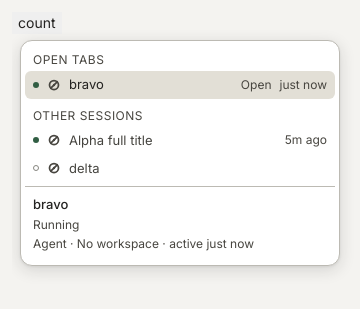
Test case: SessionOverviewMenu › previews what the roster already holds, and nothing it does not
Hover over the option "Alpha full title 5m ago" at (111, 140), box [33,132,327,148]
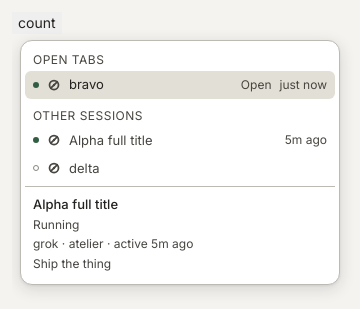
Expected: the element with class "workspace-overview-preview" shows "Alpha full title", [33,196,118,212]
Expected: the element with class "workspace-overview-preview" shows "grok", [33,236,193,251]
Expected: the element with class "workspace-overview-preview" shows "atelier", [33,236,193,251]
Hover over the option "delta" at (73, 168), box [47,160,100,176]
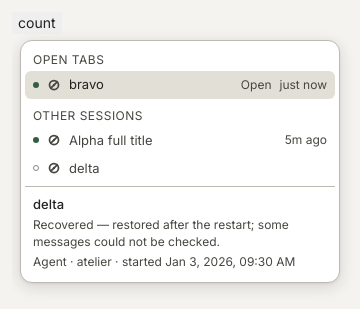
Expected: the element with class "workspace-overview-preview" shows "started", [33,254,295,269]
Expected: the element with class "workspace-overview-preview" shows "2026", [33,254,295,269]
Expected: the text with class "workspace-overview-preview" no longer shows "active"
Hover over the option "bravo Open just now" at (86, 84), box [25,71,335,99]
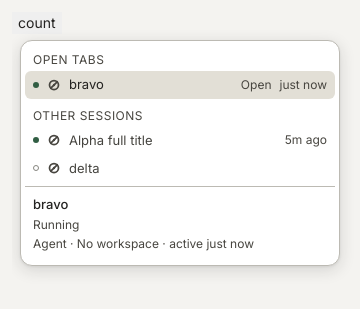
Expected: the element with class "workspace-overview-preview" shows "No workspace", [33,236,254,251]
